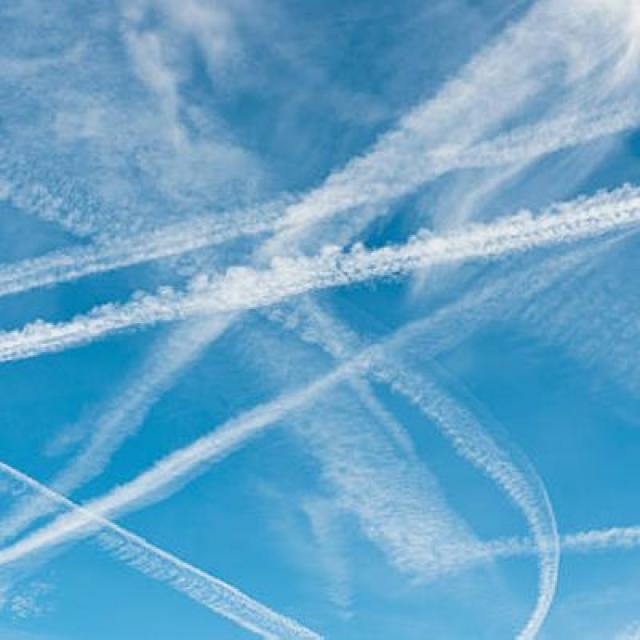Ct: (4, 122, 640, 640)
